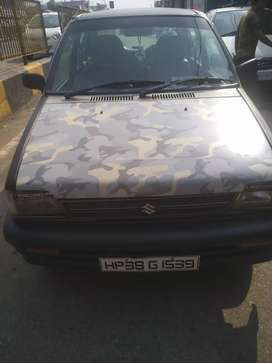HP3SG1539: (98, 256, 199, 271)
